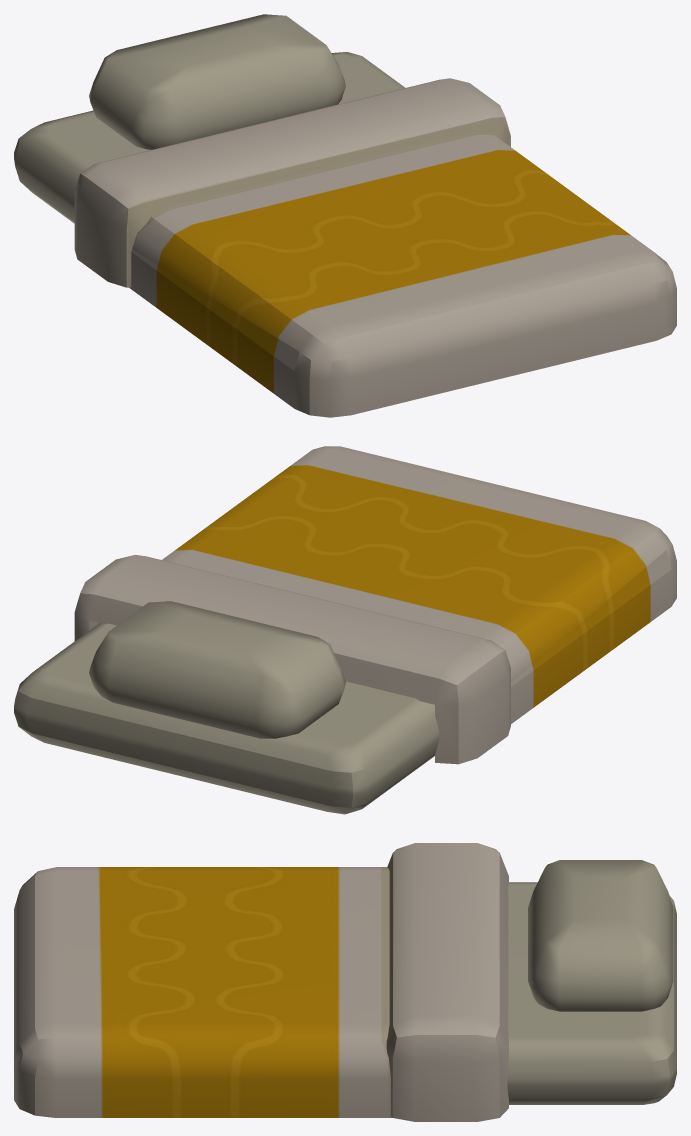
The model's file is Cama1Cama.obj.
The picture shows the model from 3 angles, top to bottom: view 1: azimuth 30°, elevation 25°; view 2: azimuth 150°, elevation 25°; view 3: azimuth 270°, elevation 25°; orthographic projection. The views are drawn at different scales.
Parts seen in each view (by area): view 1: Cama_pCube16; view 2: Cama_pCube16; view 3: Cama_pCube16.
Part boxes in pixels (x1,y1,x2,y2): Cama_pCube16: [14, 14, 676, 417]; Cama_pCube16: [14, 446, 676, 814]; Cama_pCube16: [14, 843, 676, 1121].
Size of the model in its own units: 1.07 by 0.32 by 1.5.
Materials: 2 (2 with a texture image).
